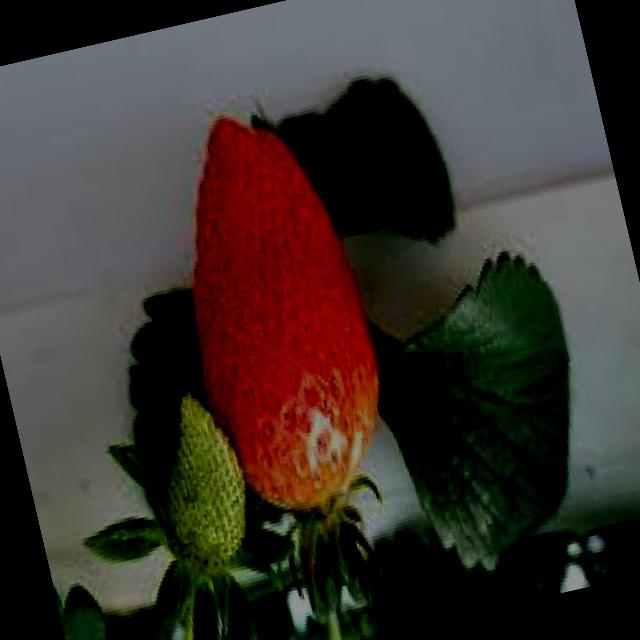Strawberry: (146, 95, 408, 532), (142, 382, 263, 574)
